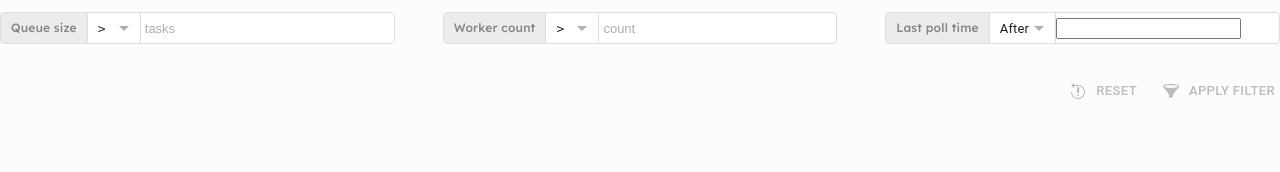
Scenario: FilterSection › changing the operator with no value does not invent a zero-size filter
Press the mouse on the dropdown named "Queue size condition" at (102, 28), box x1=98 y1=20 x2=106 y2=36
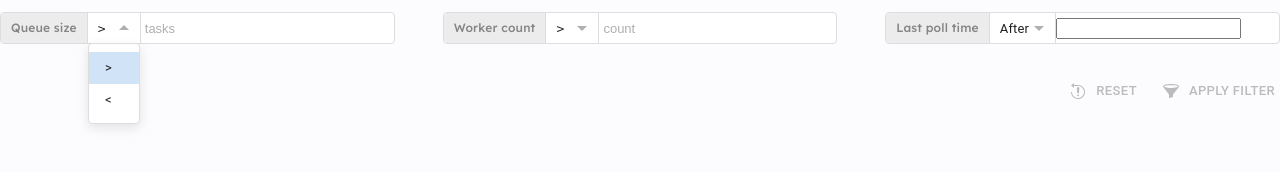
Click the option "<" at (108, 99), box x1=105 y1=92 x2=112 y2=106
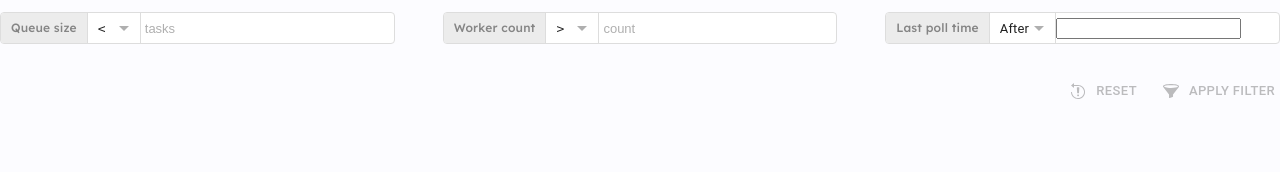
Now the dropdown named "Queue size condition" reads "<", box x1=98 y1=20 x2=106 y2=36
